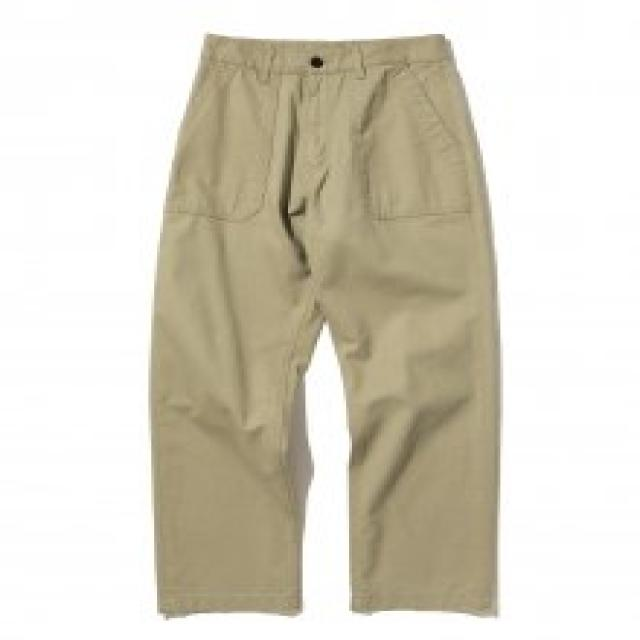long-pants: (150, 28, 503, 620)
